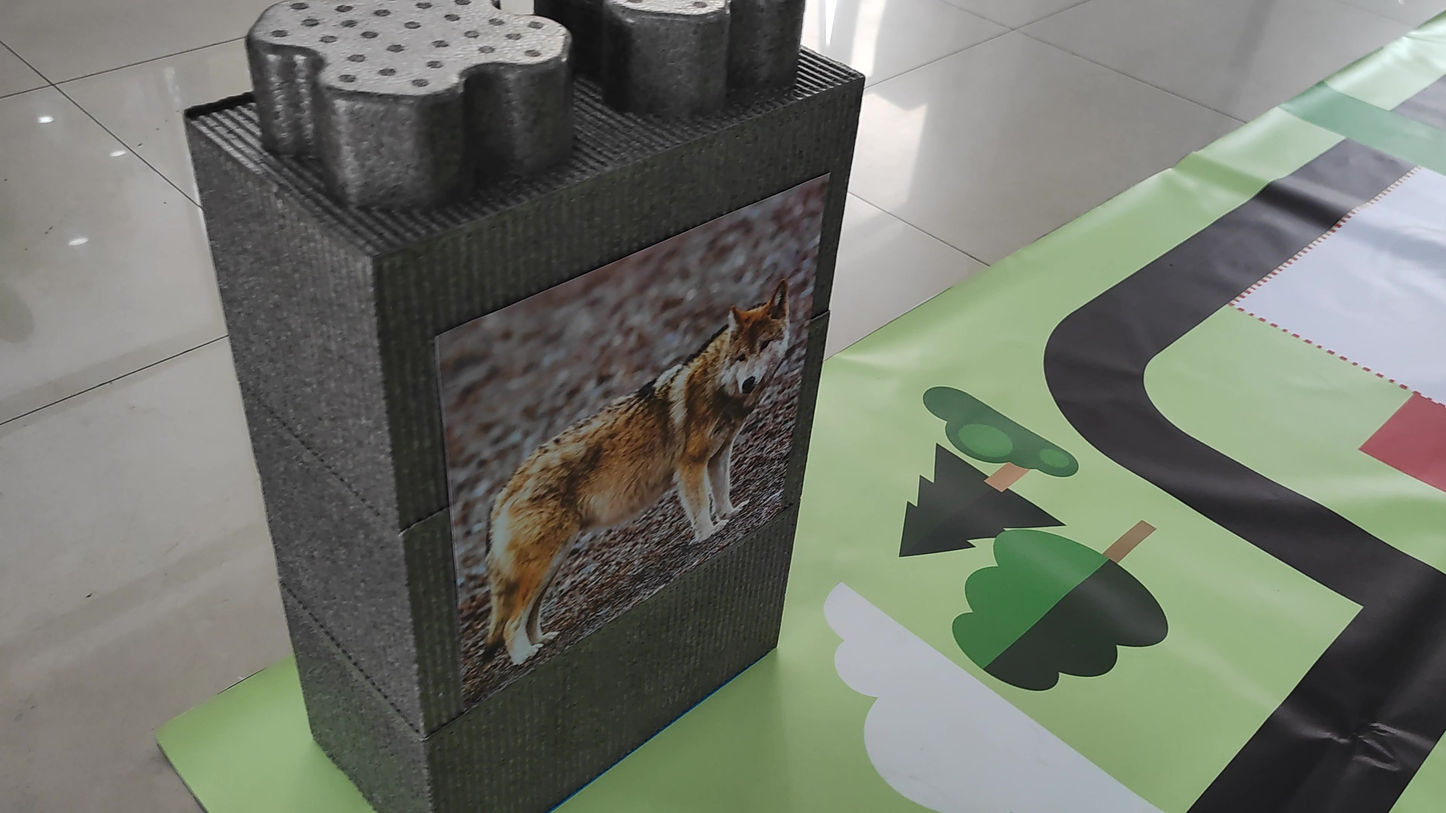wolf: (469, 267, 802, 678)
